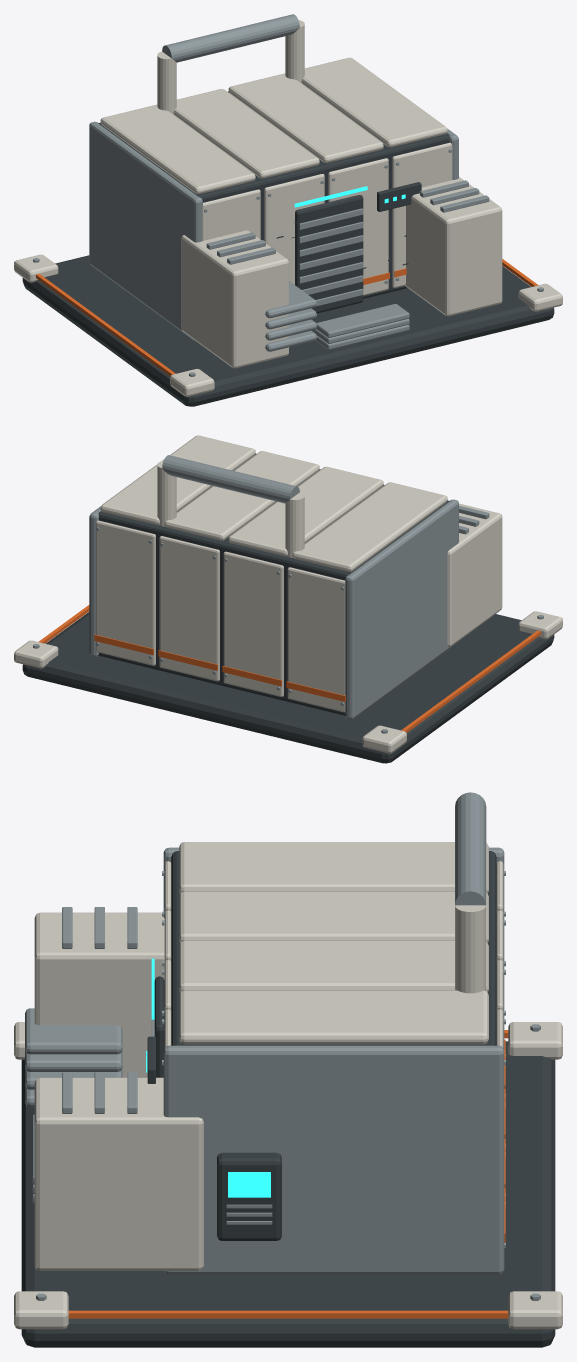
Rendered from SM_StructuralFabricator_Body.001.fbx.
3 renders of one model, top to bottom at view 1: azimuth 30°, elevation 25°; view 2: azimuth 150°, elevation 25°; view 3: azimuth 270°, elevation 25°, orthographic. The views are drawn at different scales.
Visible parts, largest first — view 1: SM_StructuralFabricator_Body.001; view 2: SM_StructuralFabricator_Body.001; view 3: SM_StructuralFabricator_Body.001.
Boxes of the visible parts, box(x1,y1,x2,y2) form: SM_StructuralFabricator_Body.001: box(14, 14, 562, 406); SM_StructuralFabricator_Body.001: box(14, 435, 562, 763); SM_StructuralFabricator_Body.001: box(14, 792, 562, 1347).
Bounding box in the file's own units: 532 × 422 × 312.
